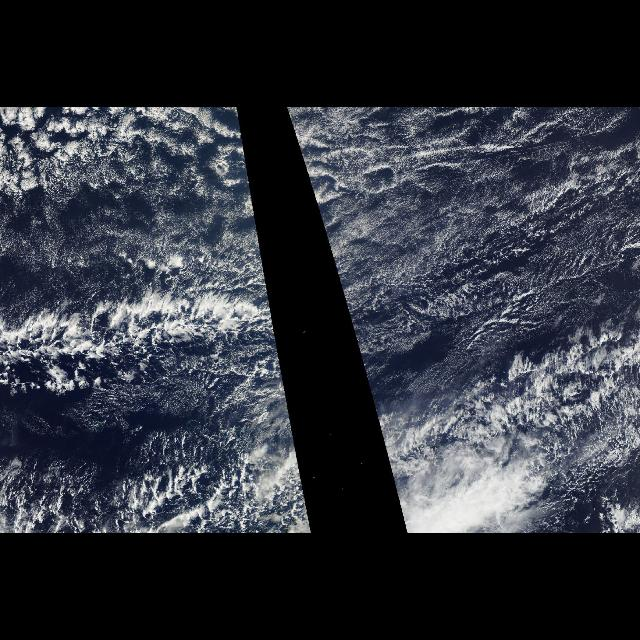Fish: (2, 271, 290, 434)
Gravel: (368, 188, 630, 316)
Sugar: (292, 108, 636, 442), (4, 150, 268, 290), (113, 302, 297, 442)
